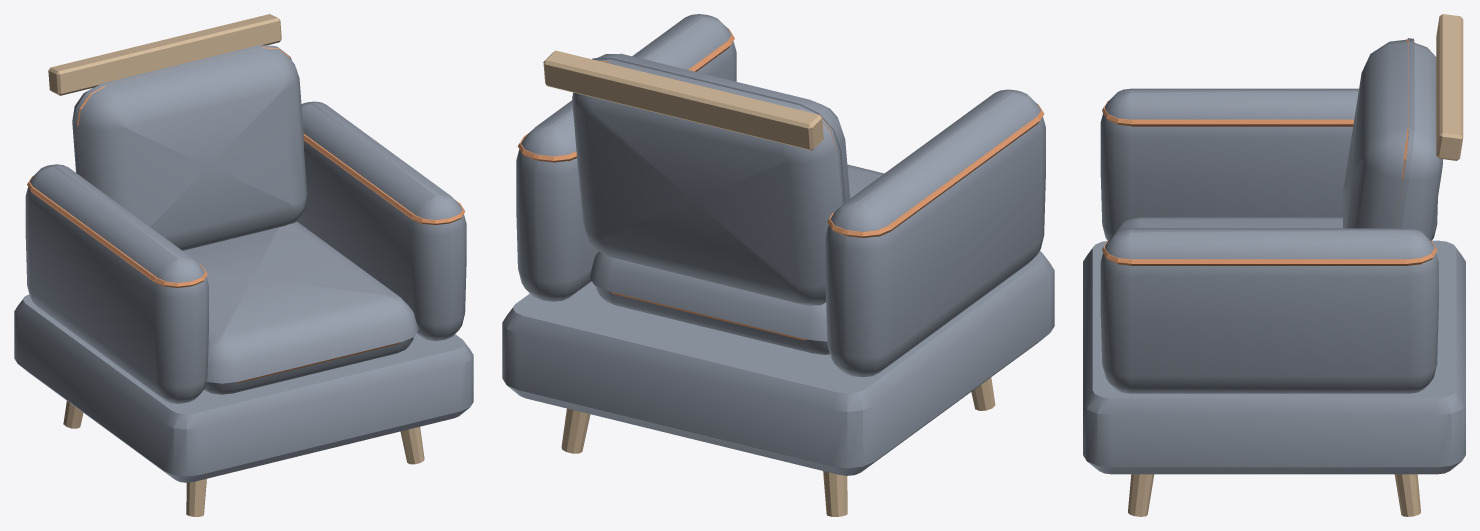
Rendered from lounge-armchair.glb.
3 renders of one model, left to right at view 1: azimuth 30°, elevation 25°; view 2: azimuth 150°, elevation 25°; view 3: azimuth 270°, elevation 25°, orthographic. The views are drawn at different scales.
Parts seen in each view (by area): view 1: lounge-armchair; view 2: lounge-armchair; view 3: lounge-armchair.
Part boxes in pixels (box(x1,y1,x2,y2)): lounge-armchair: box(14, 14, 473, 516); lounge-armchair: box(502, 14, 1054, 516); lounge-armchair: box(1083, 14, 1465, 516).
Size of the model in its own units: 0.827 by 0.8805 by 0.8.
